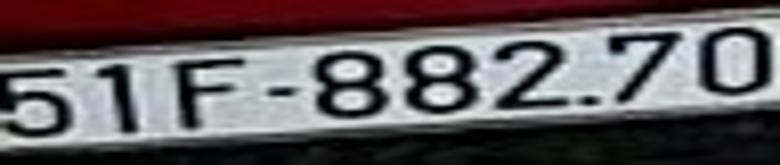-: (261, 87, 298, 99)
.: (579, 96, 598, 107)
0: (698, 28, 773, 94)
1: (94, 64, 142, 135)
2: (494, 39, 566, 109)
5: (0, 69, 70, 139)
7: (610, 30, 679, 101)
8: (314, 54, 389, 119), (404, 46, 477, 112)
F: (169, 62, 246, 131)
